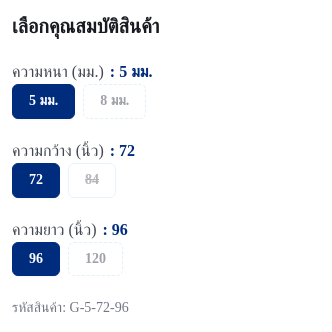
it: VariantSelector uncheck / toggle behavior › snaps conflicting groups onto an available variant when clicking an option with no available exact combination
Check: the text "รหัสสินค้า: G-5-72-96" is shown, box left=12, top=300, right=129, bottom=315
Click the button "120": [96, 259] box left=68, top=242, right=123, bottom=276
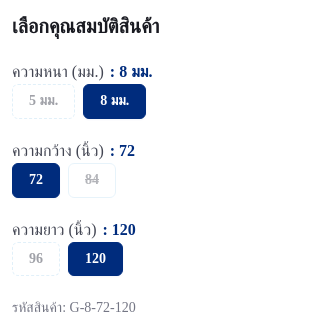
Check: the text "รหัสสินค้า: G-8-72-120" is shown, box left=12, top=300, right=136, bottom=315
